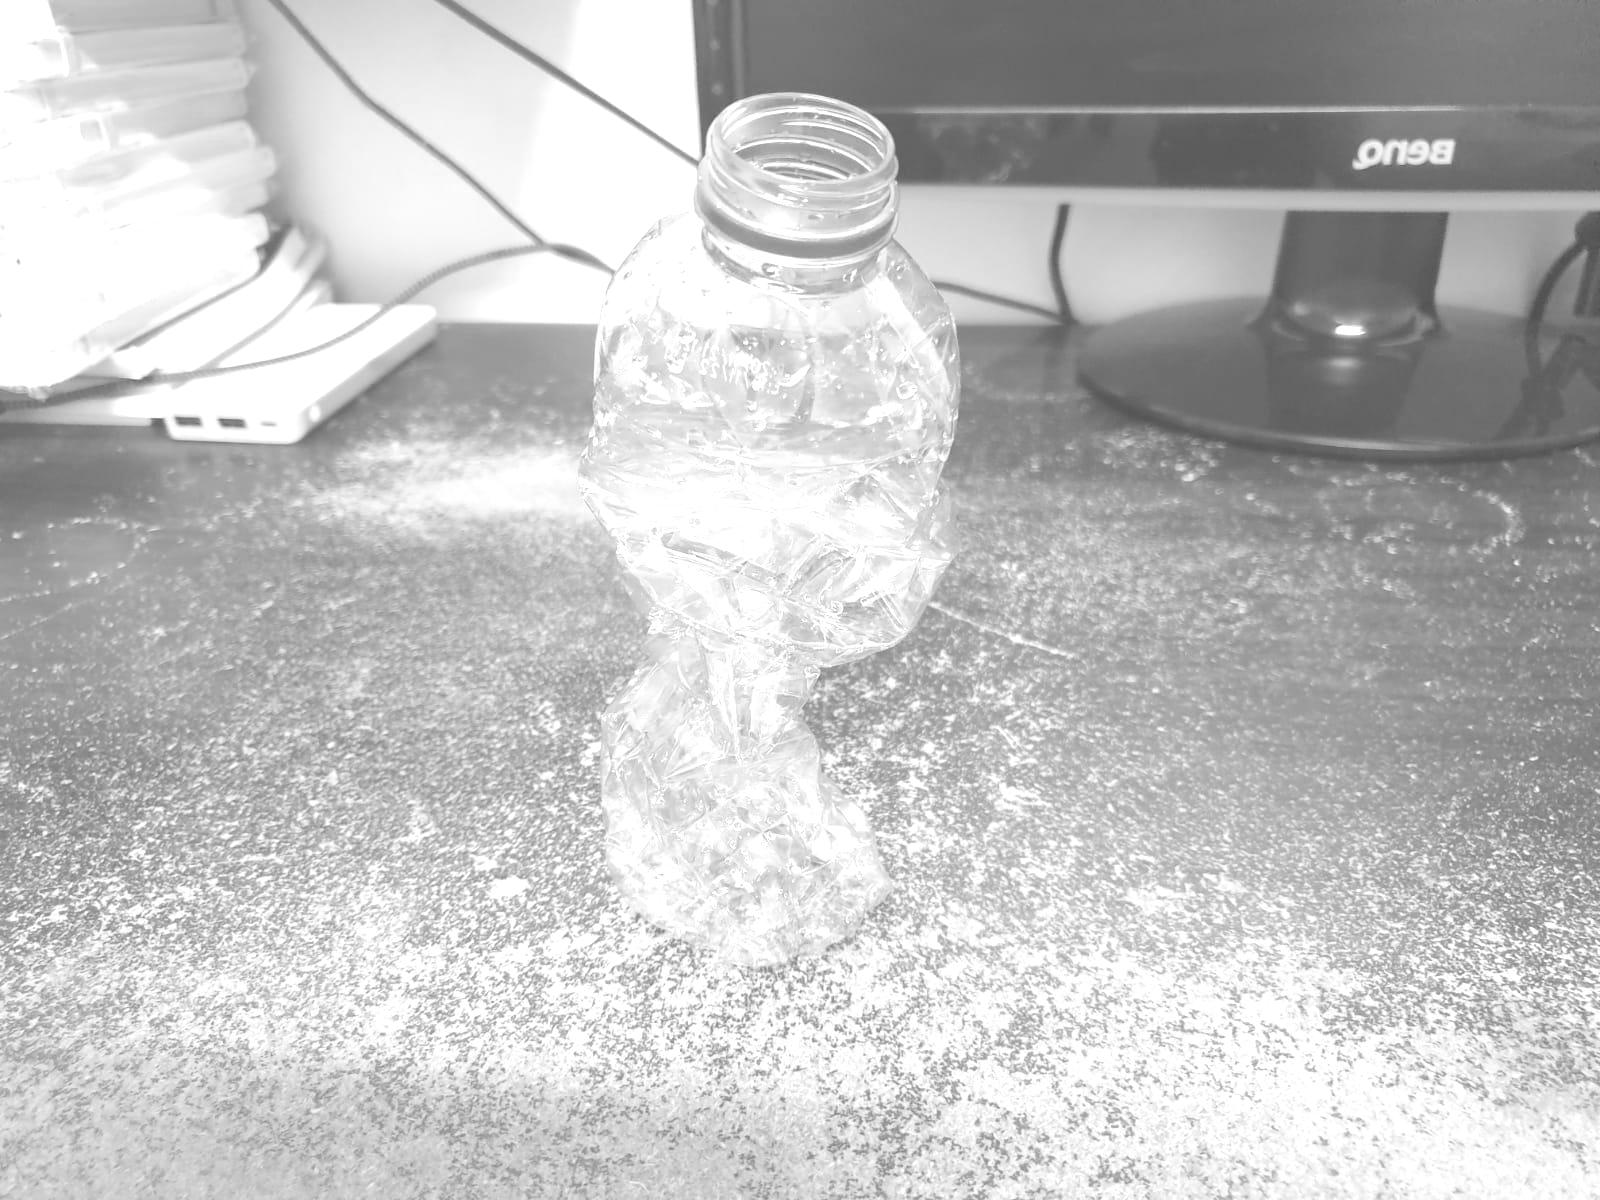bottle: (590, 93, 951, 961)
